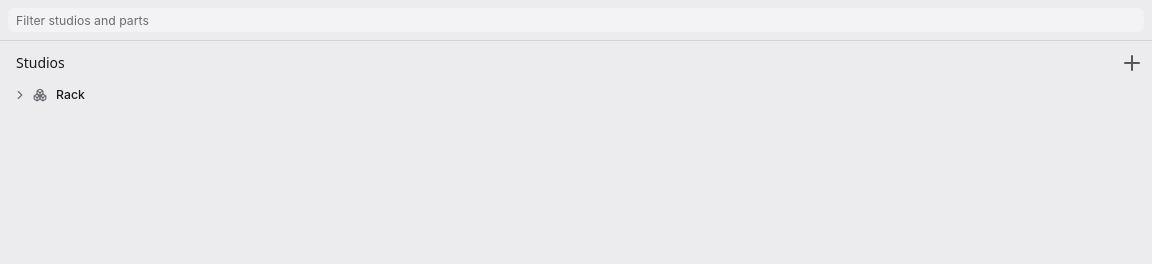
Test case: subassembly tree › keeps ancestors when filtering a descendant and shows a matching group with its children
The image size is (1152, 264).
Click the button named "Expand Rack" at (20,95), box [10,85,30,105]
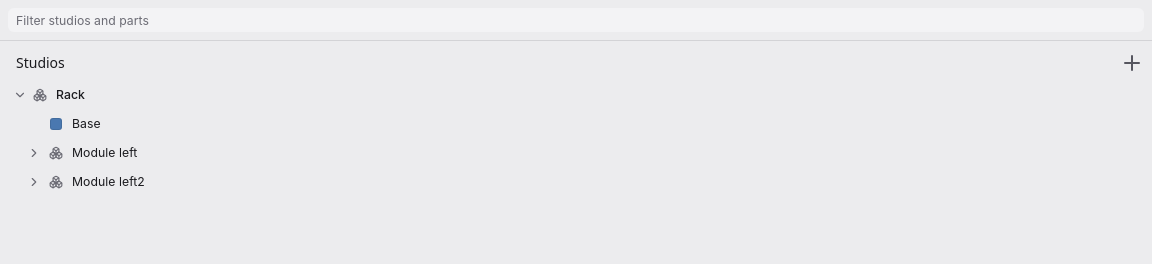
Type "Lid" into the field labelled "Filter studios and parts" at (576,20), box [16,8,1136,32]
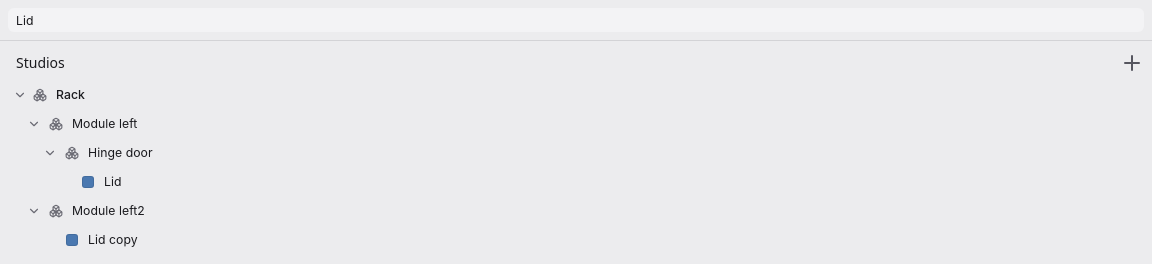
Expected: the list item "Hinge door Lid" is shown, [8,139,1144,196]
Expected: the button "Base" is gone
Replace the text in the field named "Filter studios and parts" with "Hinge door" at (576,20), box [16,8,1136,32]
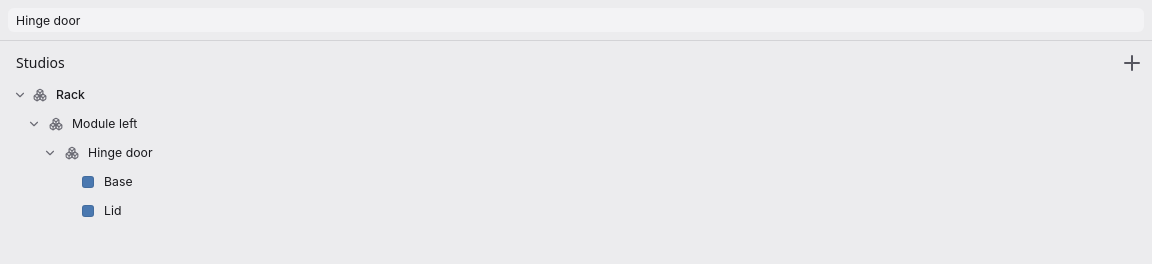
Expected: the list item "Base" is shown, [82,174,1108,190]
Expected: the button "Module left2" is gone
